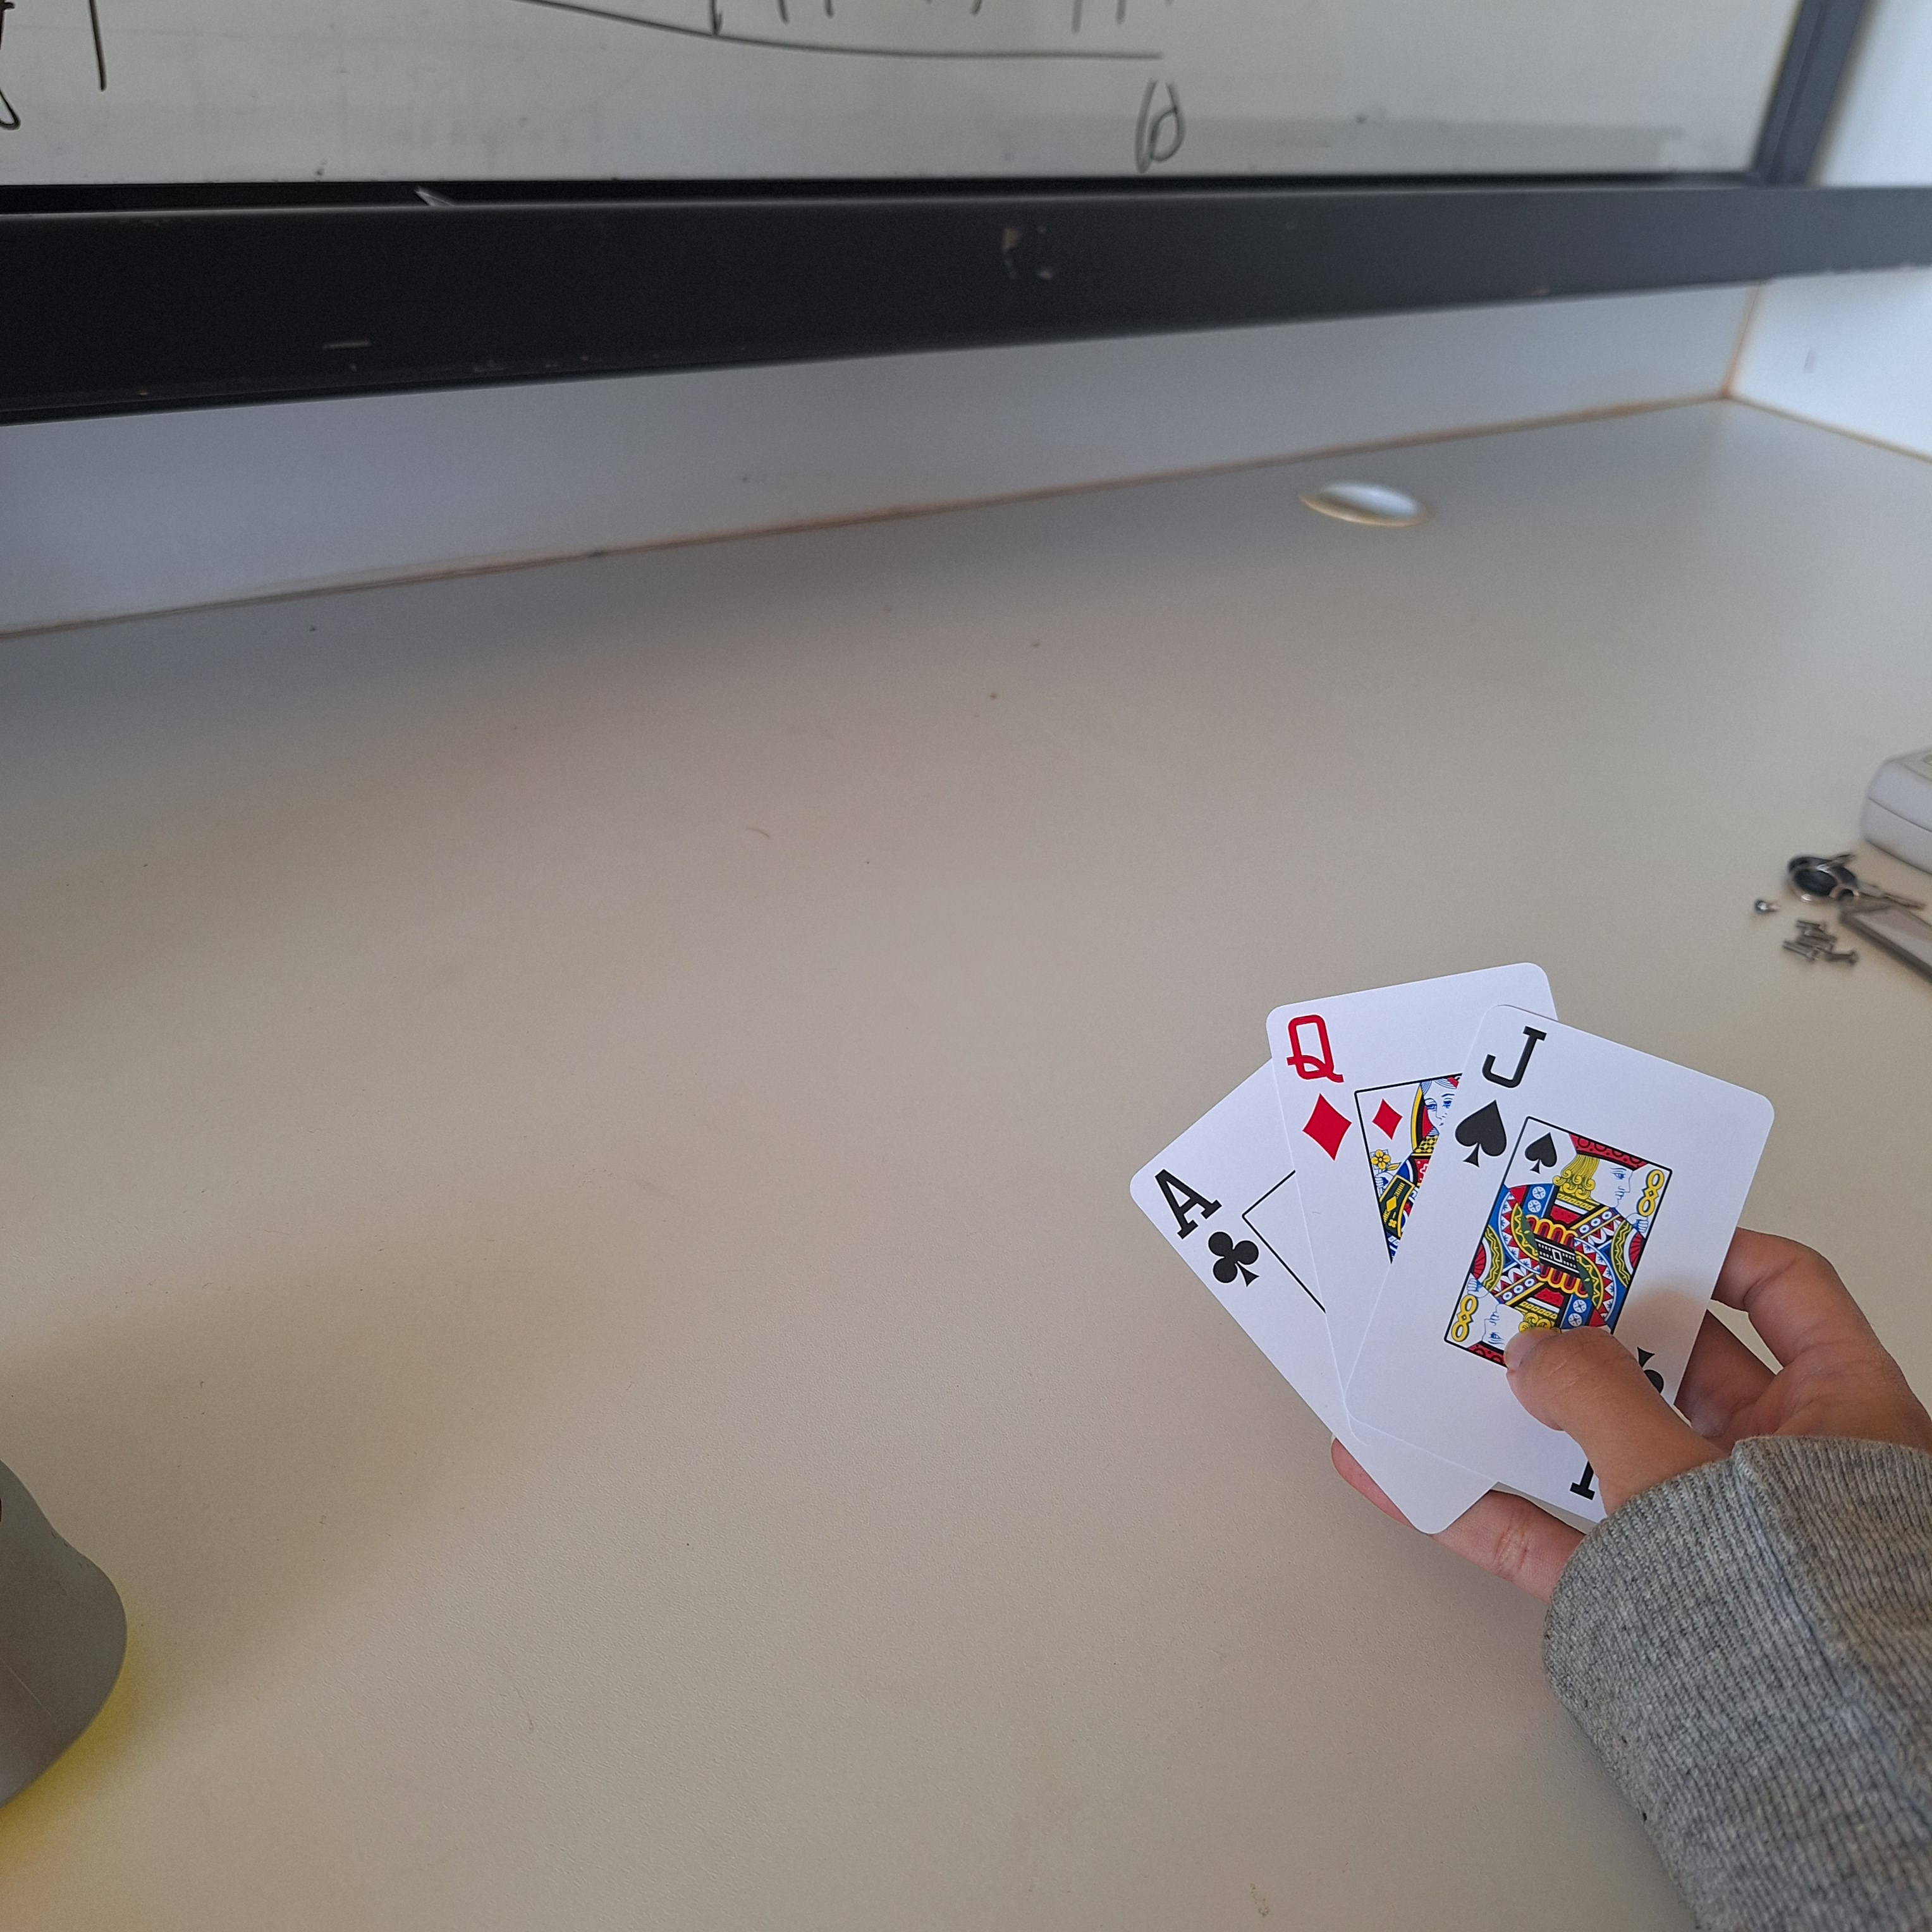AP: (1148, 1161, 1270, 1295)
JE: (1447, 1014, 1550, 1169)
QO: (1274, 1007, 1362, 1169)
